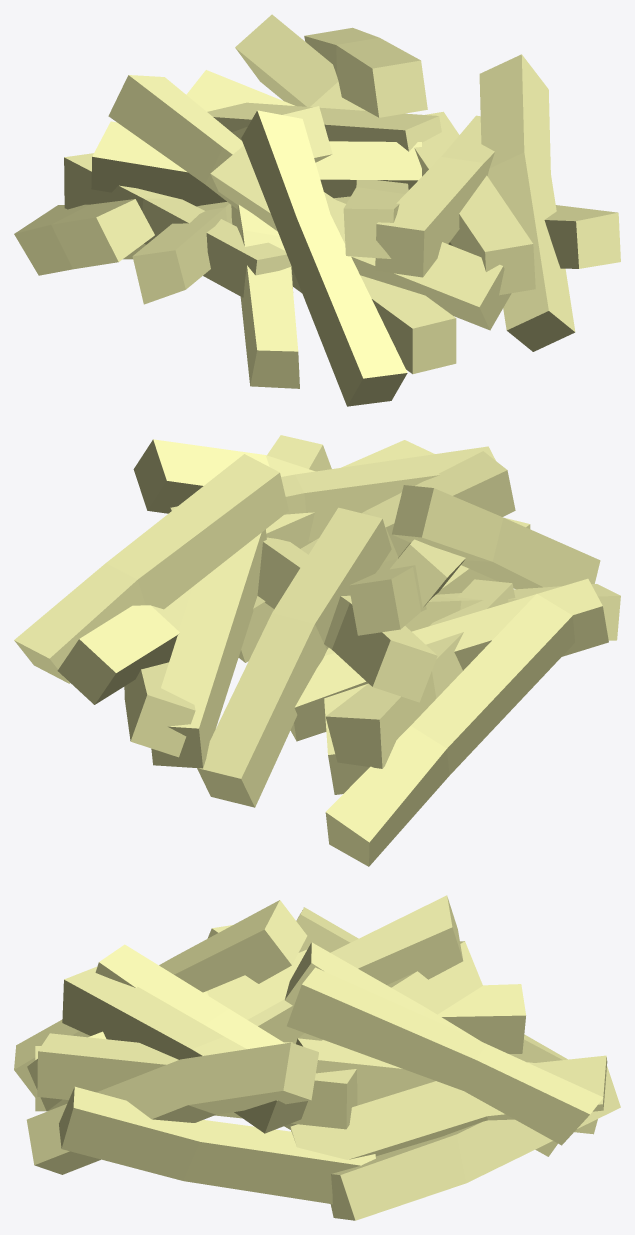
Rendered from Fries.fbx.
3 renders of one model, top to bottom at view 1: azimuth 30°, elevation 25°; view 2: azimuth 150°, elevation 25°; view 3: azimuth 270°, elevation 25°, orthographic. The views are drawn at different scales.
Visible parts, largest first — view 1: Fries; view 2: Fries; view 3: Fries.
Part boxes in pixels (x1,y1,x2,y2): Fries: (14,14,620,406); Fries: (14,435,620,866); Fries: (14,895,620,1220).
Bounding box in the file's own units: 175 × 94.73 × 213.
